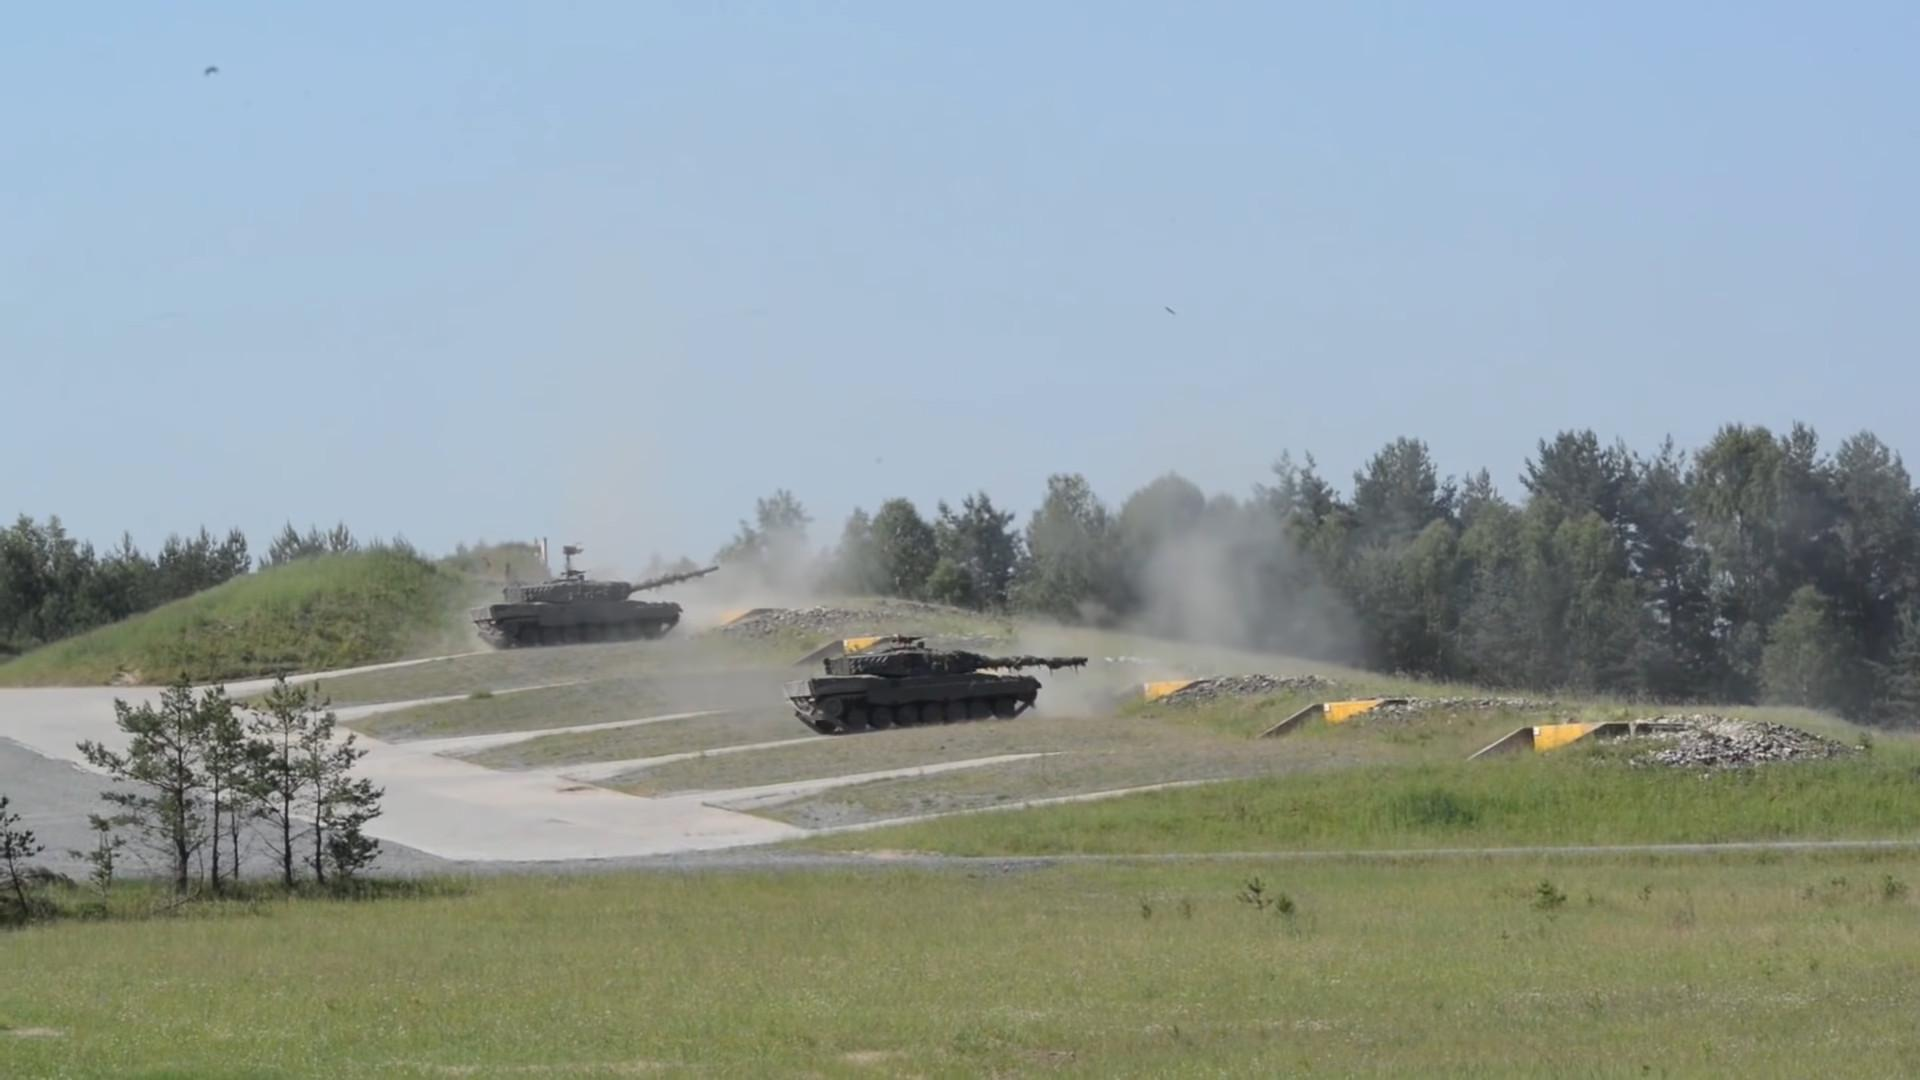tank: (782, 651, 1088, 736), (468, 564, 719, 650)
